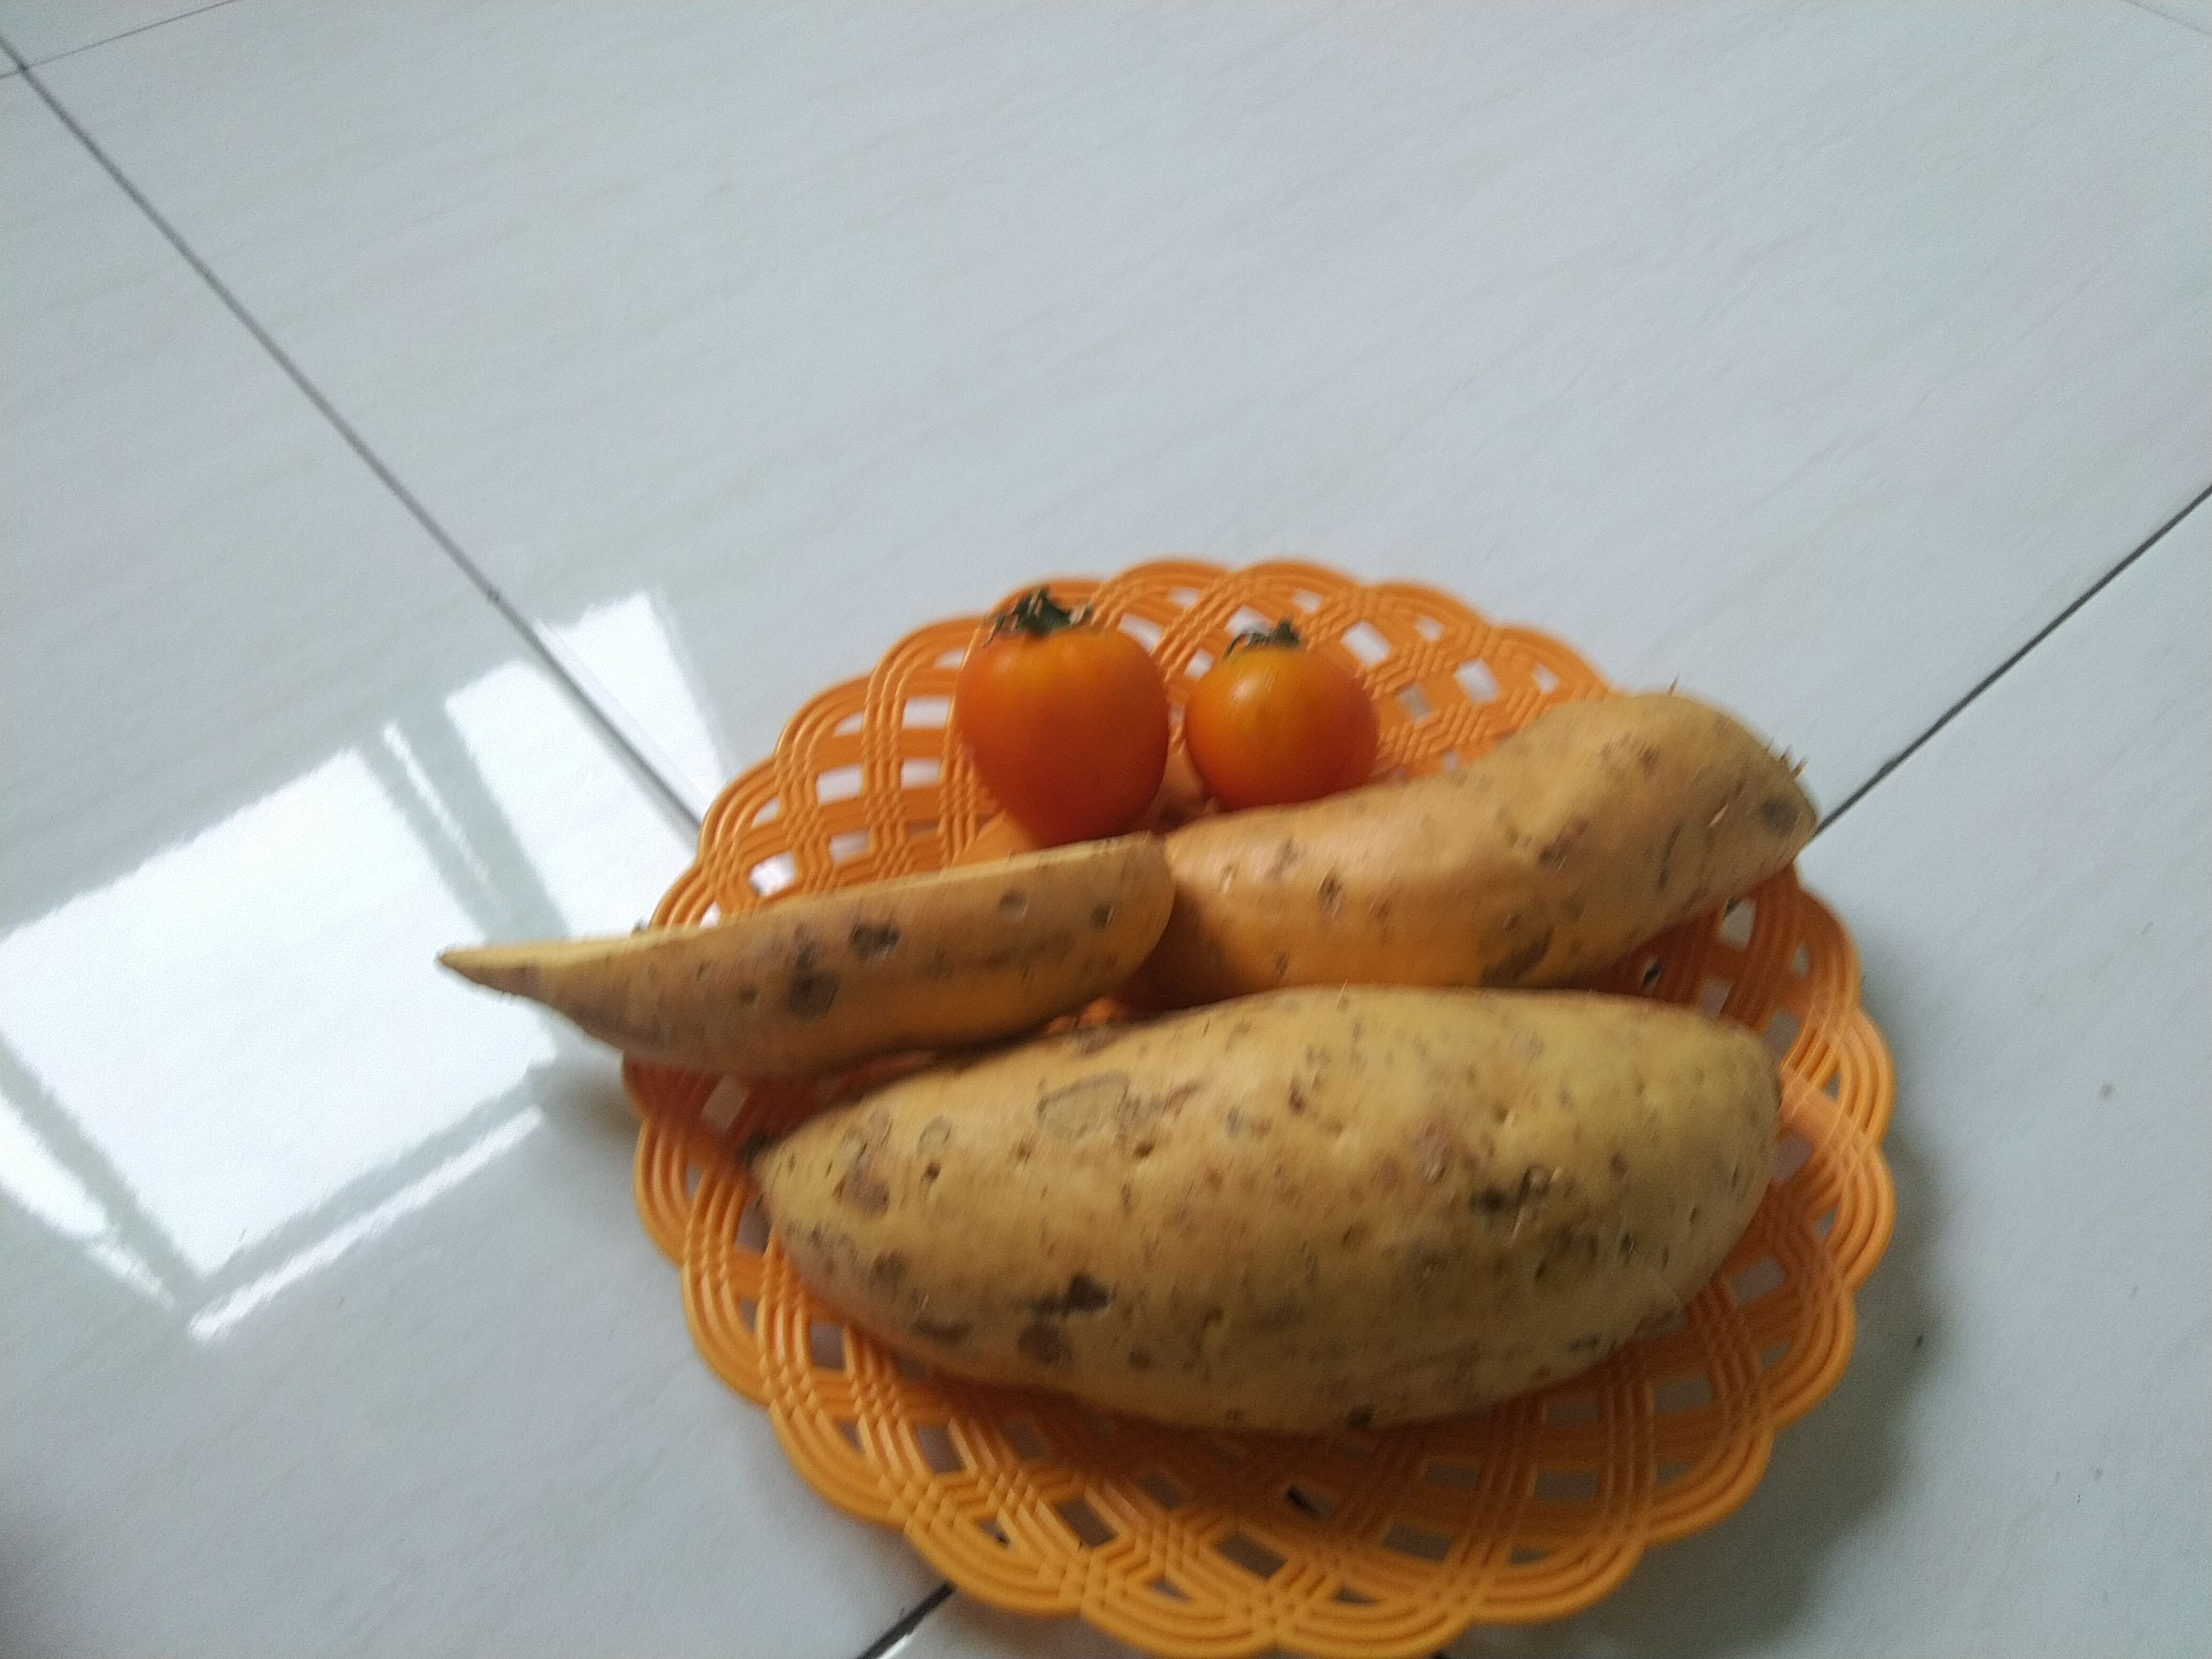ubi cilembu: (732, 971, 1803, 1406), (1144, 706, 1825, 964), (423, 828, 1162, 1051)
